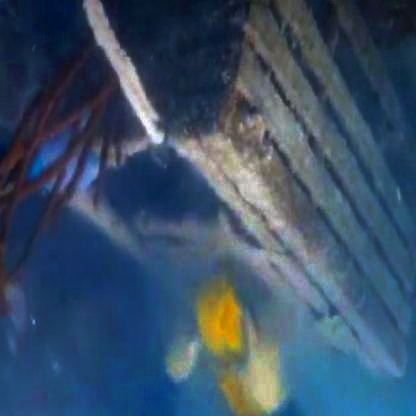misc: (147, 10, 354, 261)
